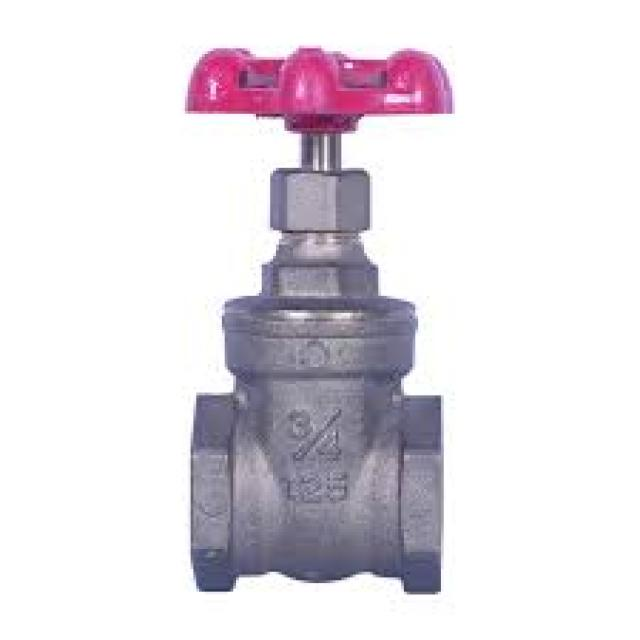Wheel Handle Valve Threaded: (155, 20, 477, 620)
